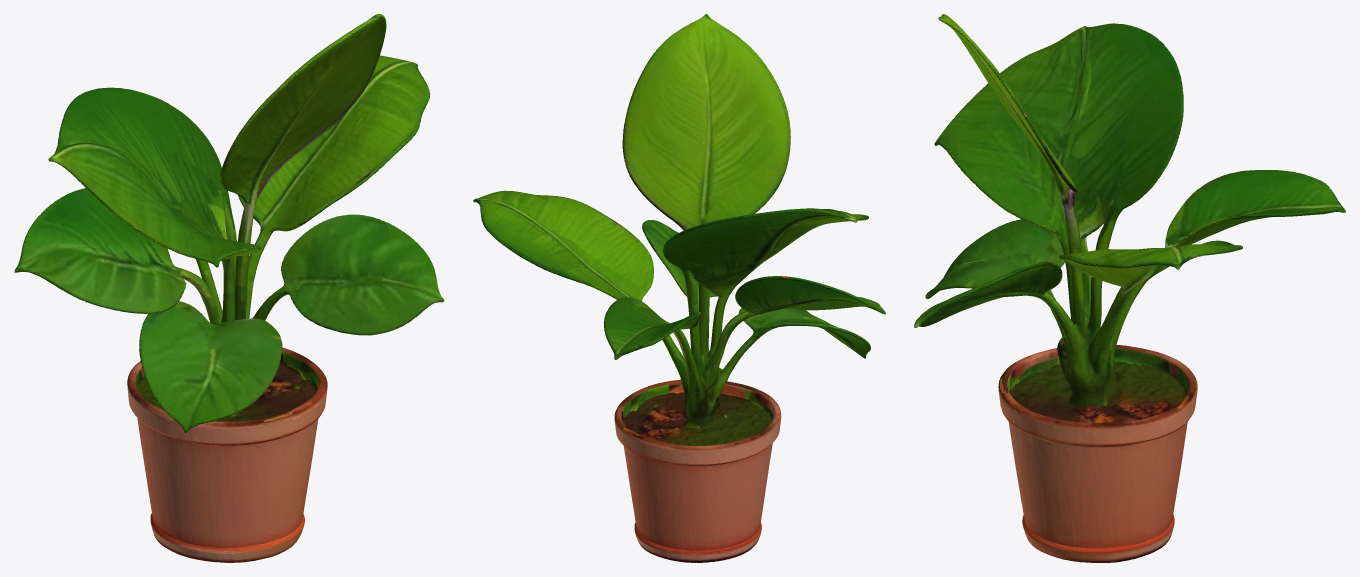
The model's file is biomechanical-growth-planter-generated-2026-04-18T02-38-02-192Z.low.glb.
The picture shows the model from 3 angles, left to right: view 1: azimuth 30°, elevation 25°; view 2: azimuth 150°, elevation 25°; view 3: azimuth 270°, elevation 25°; orthographic projection. The views are drawn at different scales.
Visible parts, largest first — view 1: temp_mesh.ply; view 2: temp_mesh.ply; view 3: temp_mesh.ply.
Boxes of the visible parts, x1,y1,x2,y2 form: temp_mesh.ply: [14, 14, 444, 562]; temp_mesh.ply: [473, 14, 885, 562]; temp_mesh.ply: [914, 14, 1345, 562].
Size of the model in its own units: 1.67 by 1.97 by 1.4.
Materials: 1 (1 with a texture image).
